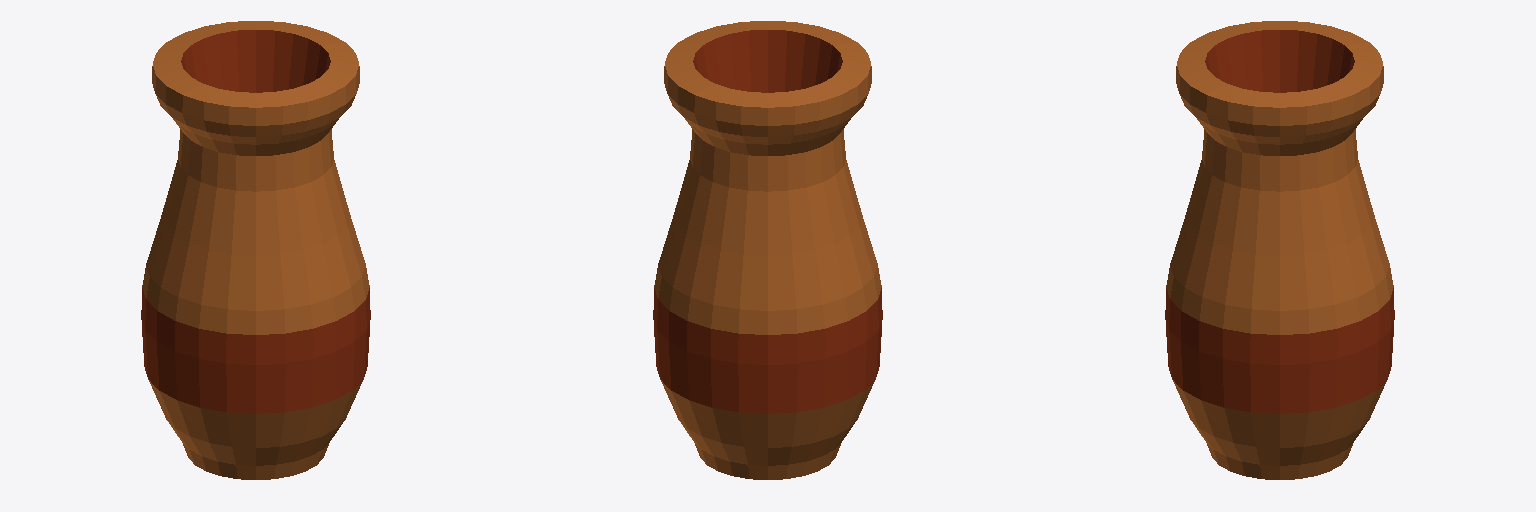
Rendered from potA_decorated.obj.
The picture shows the model from 3 angles: view 1: azimuth 30°, elevation 25°; view 2: azimuth 150°, elevation 25°; view 3: azimuth 270°, elevation 25°; orthographic projection.
Visible parts, largest first — view 1: potA_decorated_Cylinder.006; view 2: potA_decorated_Cylinder.006; view 3: potA_decorated_Cylinder.006.
Boxes of the visible parts, x1,y1,x2,y2 form: potA_decorated_Cylinder.006: [141, 21, 370, 479]; potA_decorated_Cylinder.006: [653, 21, 882, 479]; potA_decorated_Cylinder.006: [1165, 21, 1394, 479].
Bounding box in the file's own units: 0.5242 × 0.9821 × 0.5242.